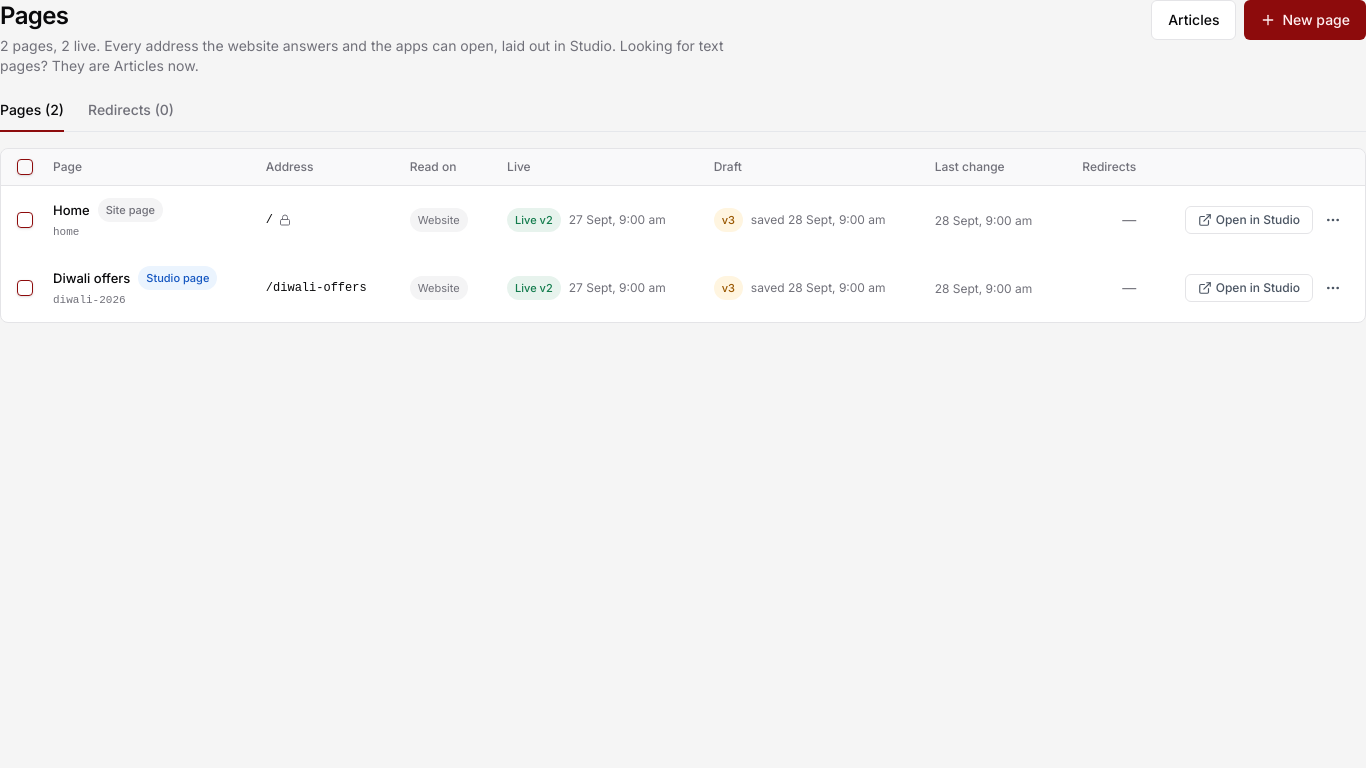
Scenario: publishing drafts › keeps a page that failed selected, names it with the API's message, and lets the rest go
Click the checkbox named "Select all rows" at (25,167), box x1=17 y1=159 x2=33 y2=175
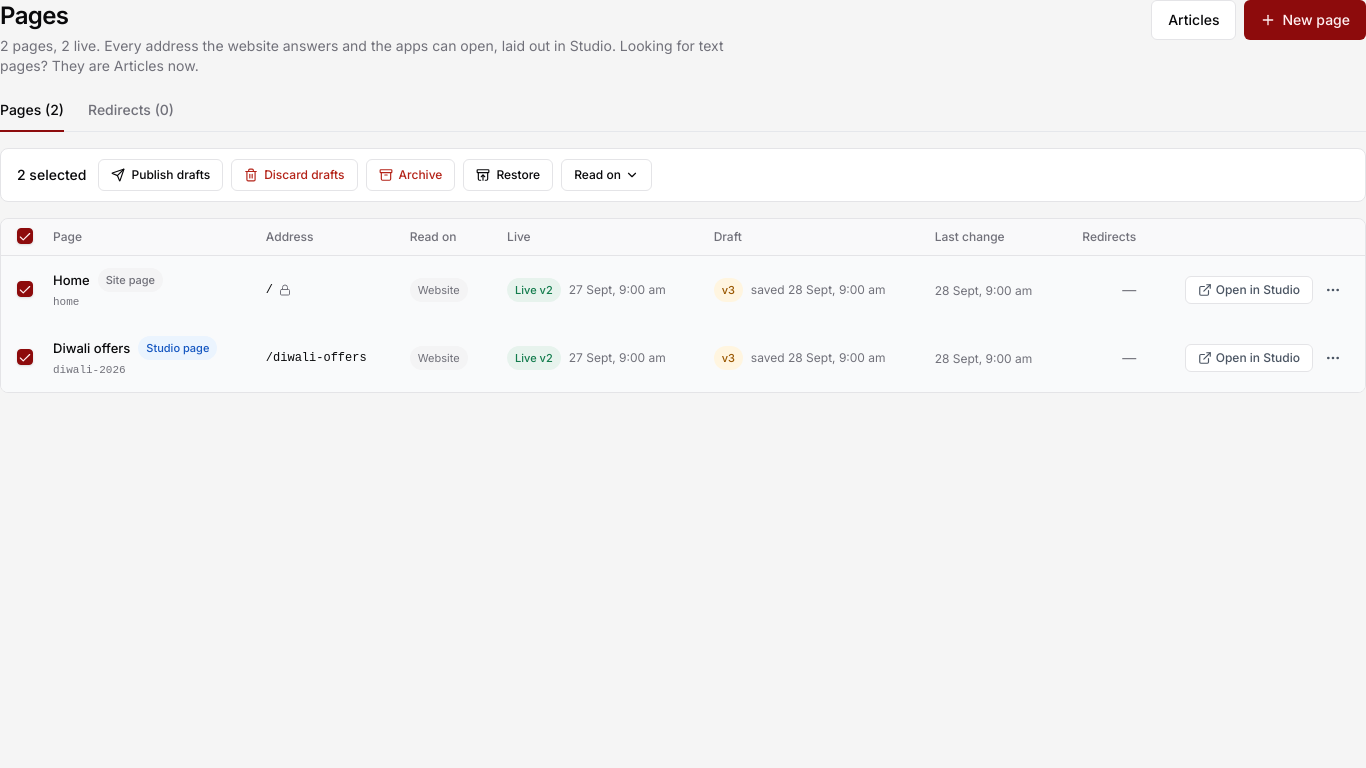
Click the button with test id "bulk-publish" at (161,175), box x1=98 y1=159 x2=223 y2=191
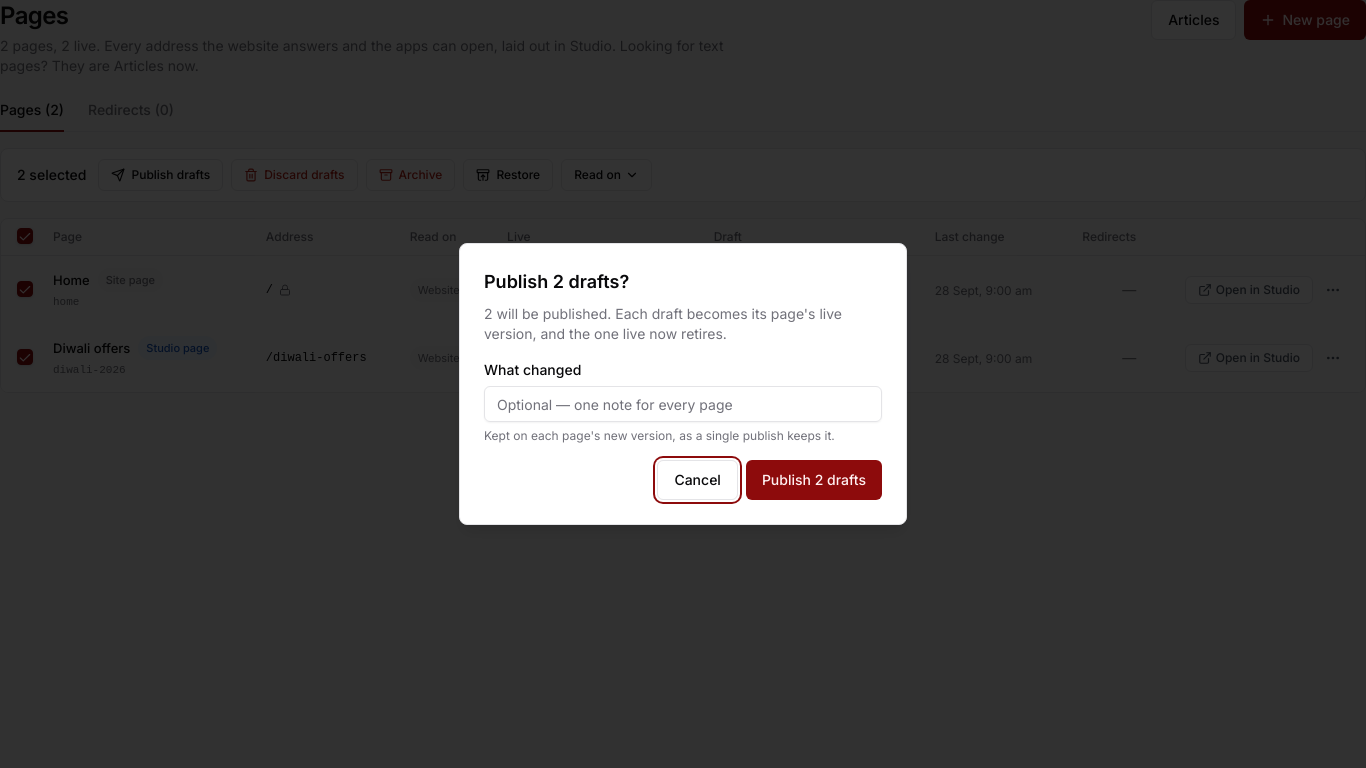
Click the button "Publish 2 drafts" at (814,480), box x1=746 y1=460 x2=882 y2=500
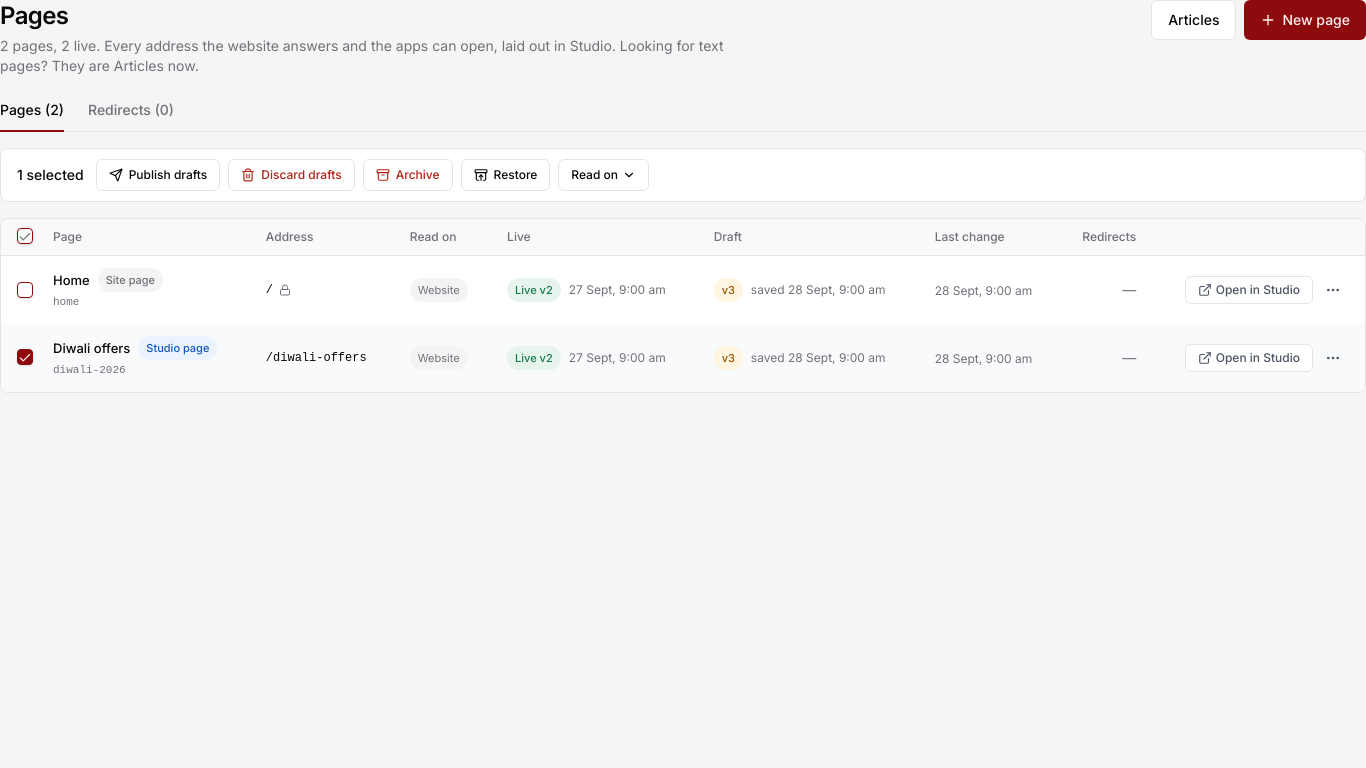
Now the text "1 selected" is shown, box x1=17 y1=165 x2=84 y2=185
